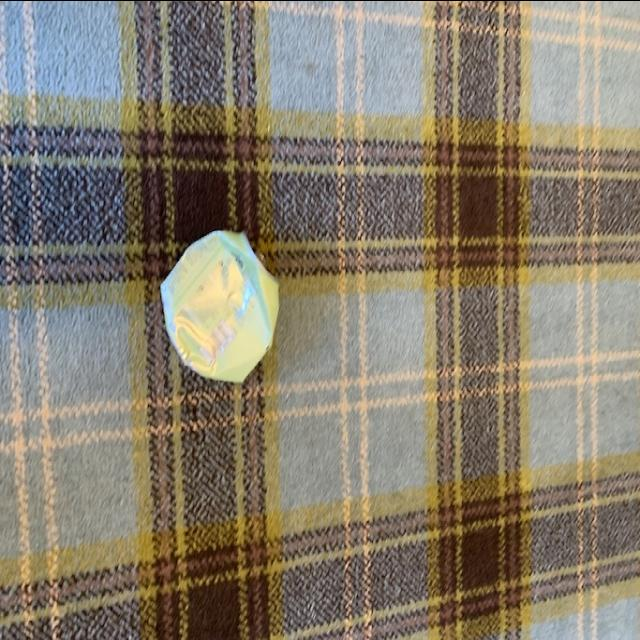litter: (160, 224, 282, 388)
